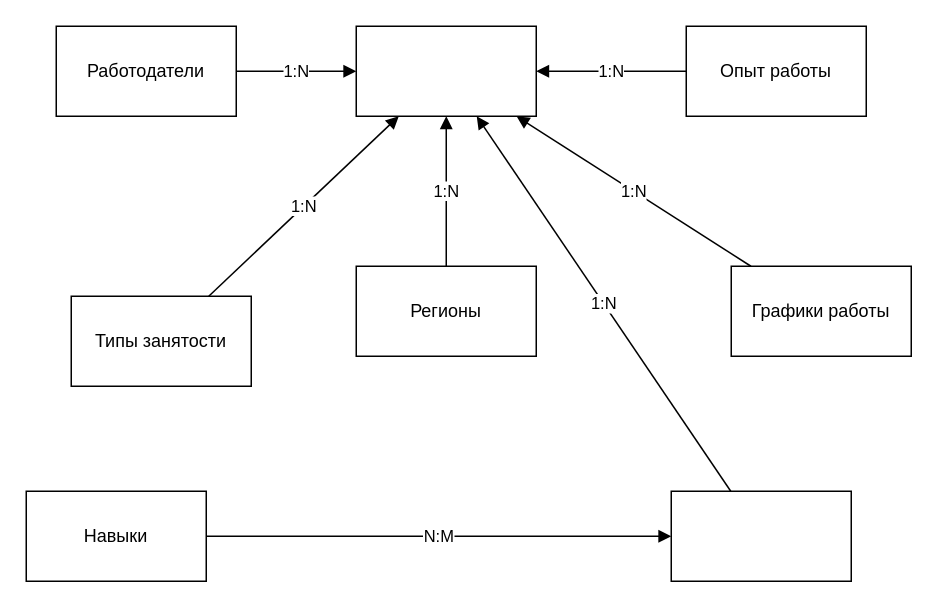
The diagram is 938 pixels wide and 608 high, and some of its shapes have lost their labels. The centre of each missing label's shape, as x and y in pixels:
"Вакансии" goes at (445,70).
"Связь навыков и вакансий" goes at (760,535).
